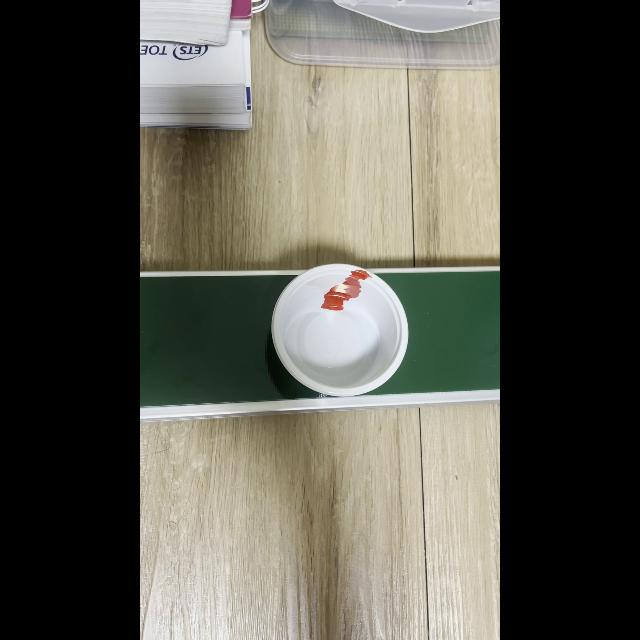dirty: (270, 265, 406, 395)
